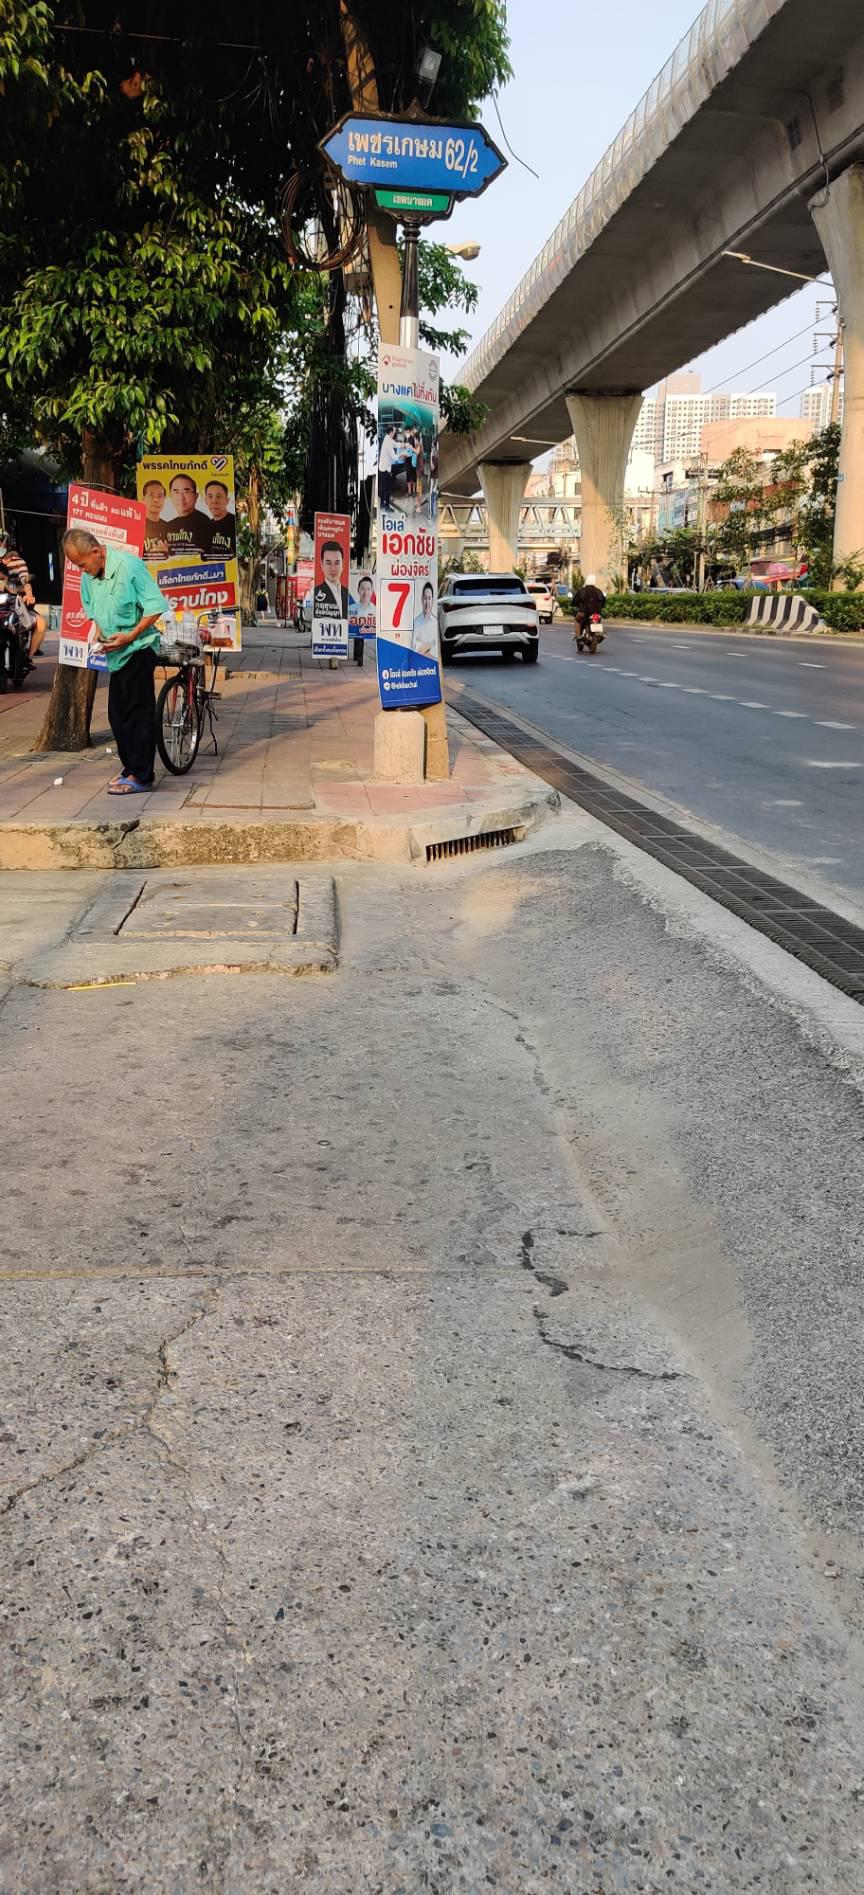Banner: (364, 388, 443, 724), (127, 454, 248, 663)
